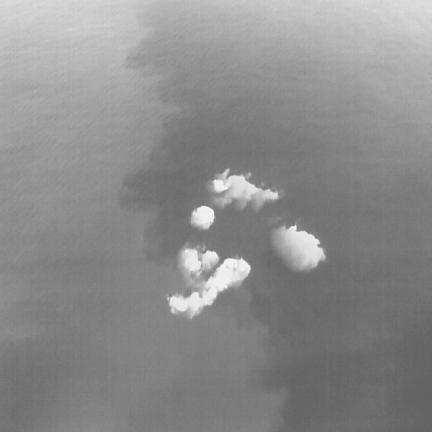flukeprints: (169, 258, 250, 318), (212, 175, 281, 212), (271, 225, 325, 271), (178, 247, 200, 278), (191, 206, 214, 230), (201, 251, 219, 273), (211, 179, 228, 192)
